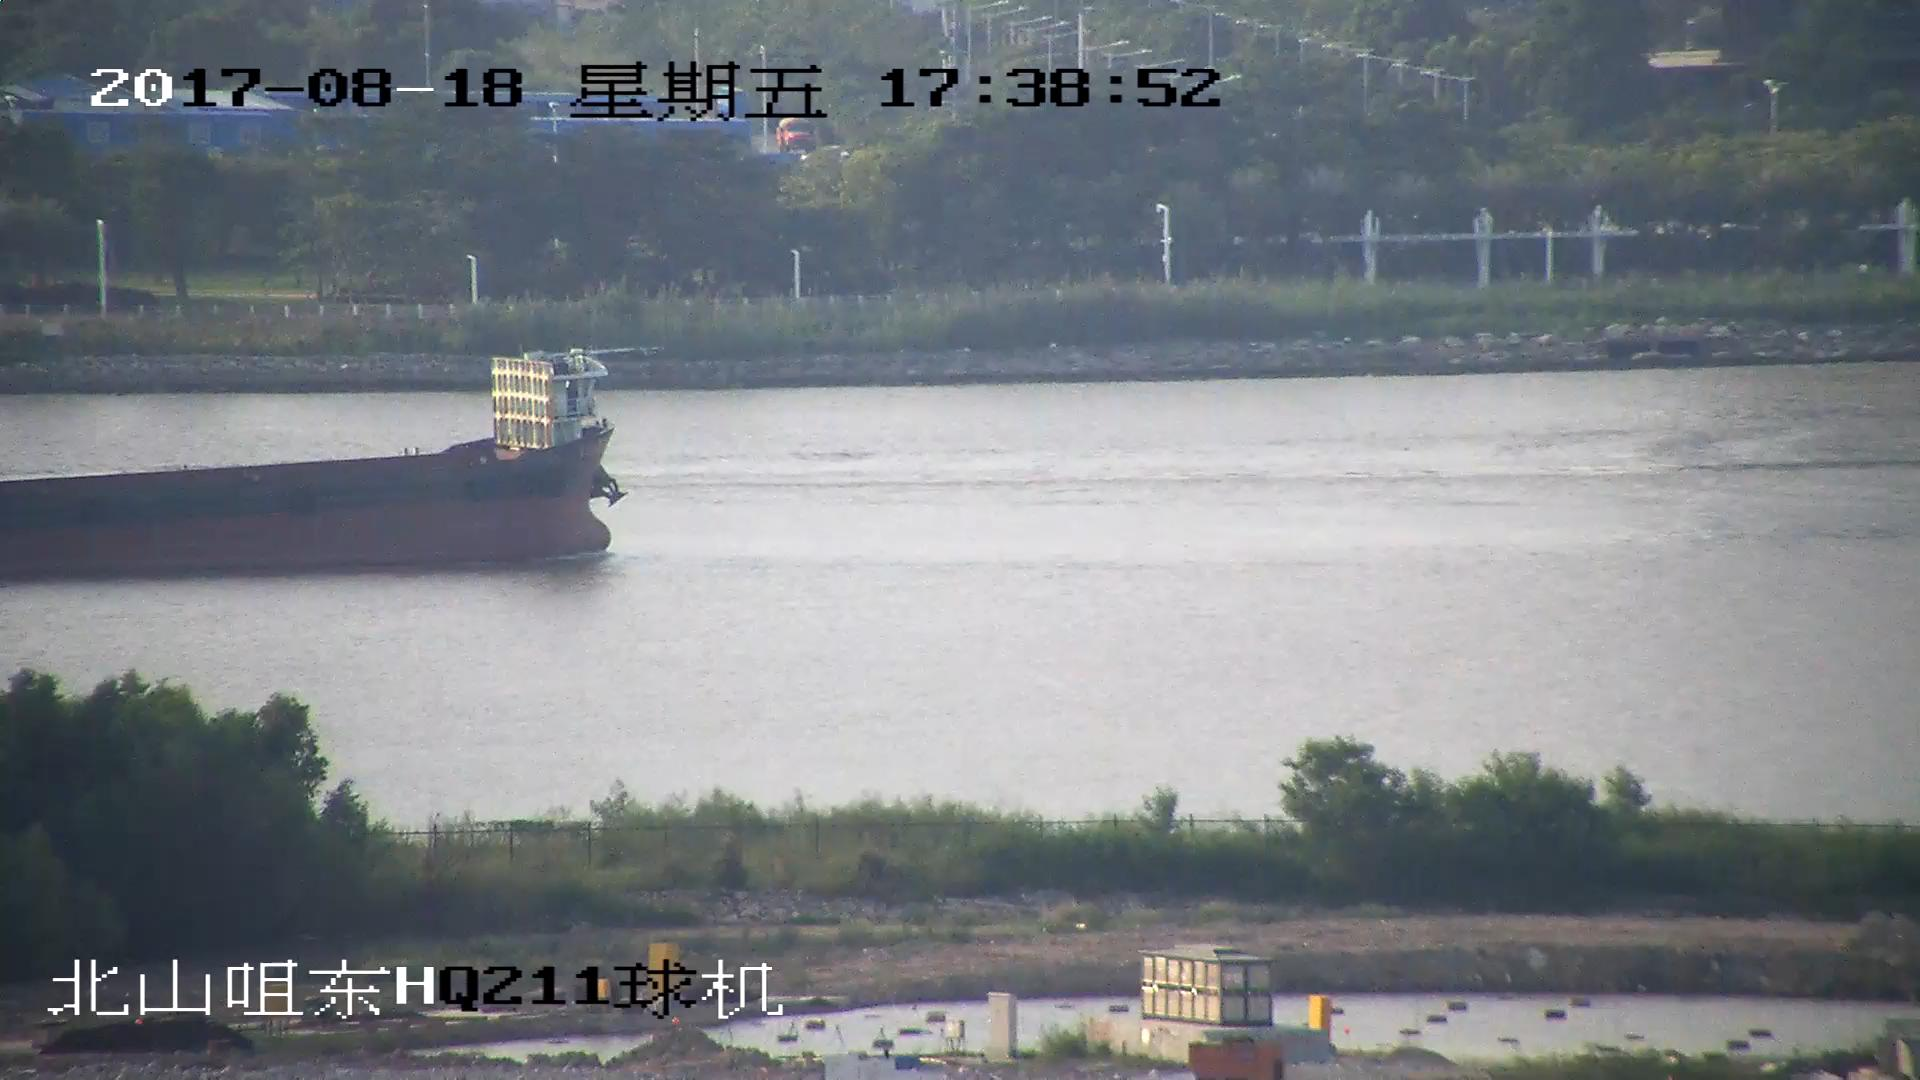general cargo ship: (1, 354, 631, 568)
